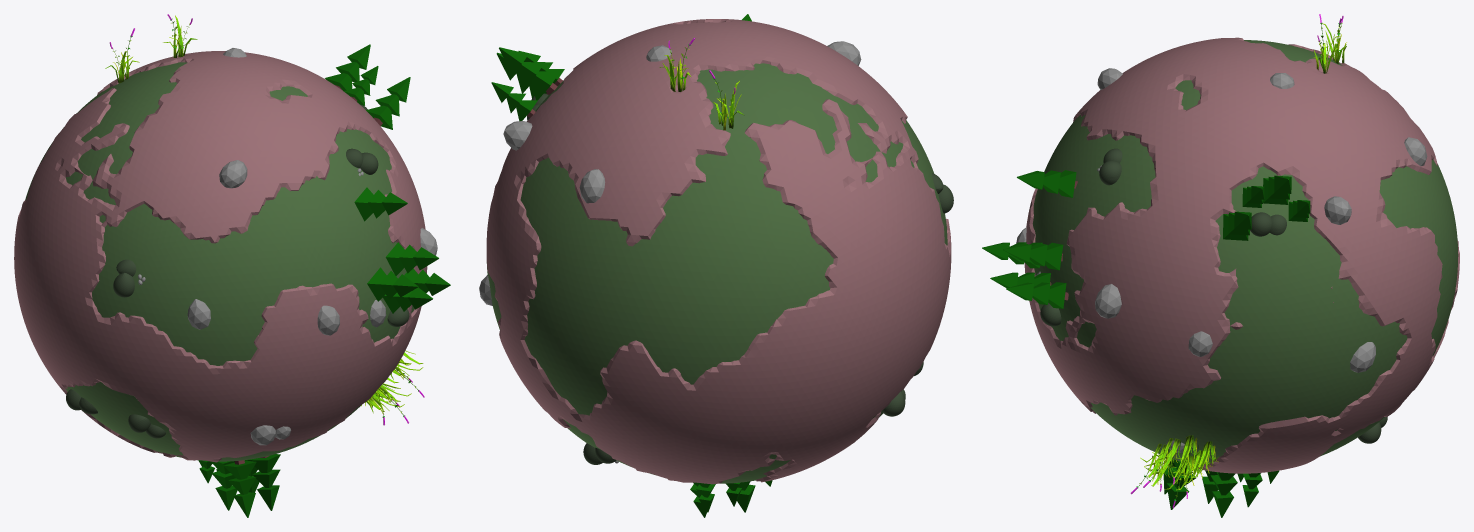
File: new-forest-planet (1).fbx
3 views of the same model, side by side, from view 1: azimuth 30°, elevation 25°; view 2: azimuth 150°, elevation 25°; view 3: azimuth 270°, elevation 25° (orthographic). The views are drawn at different scales.
Visible parts, largest first — view 1: Planet, Pine-Tree-003, Pine-Tree-005, Pine-Tree-005.009, Pine-Tree-005.008, Pine-Tree-005.002, Pine-Tree-005.007, Pine-Tree, Pine-Tree-005.003, Pine-Tree-005.010, Pine-Tree-005.011, Rock.001 (+3 smaller); view 2: Planet, Pine-Tree, Pine-Tree-004, Rock.009, Rock.010; view 3: Planet, Pine-Tree-005.009, Pine-Tree-005.008, Pine-Tree-005.011, Pine-Tree-003, Pine-Tree, Rock.004, Pine-Tree-005.001, Pine-Tree-005.010, Pine-Tree-005.002, Rock.010, Rock.002 (+1 smaller).
Boxes of the visible parts, left/top/right/bottom form: Planet: left=14, top=51, right=427, bottom=462; Pine-Tree-003: left=366, top=77, right=410, bottom=129; Pine-Tree-005: left=223, top=460, right=256, bottom=517; Pine-Tree-005.009: left=354, top=187, right=407, bottom=221; Pine-Tree-005.008: left=385, top=242, right=438, bottom=275; Pine-Tree-005.002: left=247, top=454, right=280, bottom=510; Pine-Tree-005.007: left=367, top=267, right=418, bottom=301; Pine-Tree: left=325, top=44, right=370, bottom=91; Pine-Tree-005.003: left=211, top=461, right=237, bottom=510; Pine-Tree-005.010: left=383, top=287, right=432, bottom=313; Pine-Tree-005.011: left=404, top=268, right=450, bottom=295; Rock.001: left=219, top=160, right=247, bottom=188; Planet: left=486, top=19, right=951, bottom=484; Pine-Tree: left=499, top=47, right=559, bottom=100; Pine-Tree-004: left=491, top=82, right=537, bottom=121; Rock.009: left=579, top=169, right=605, bottom=203; Rock.010: left=503, top=121, right=532, bottom=150; Planet: left=1024, top=37, right=1459, bottom=473; Pine-Tree-005.009: left=1017, top=170, right=1077, bottom=197; Pine-Tree-005.008: left=1003, top=242, right=1063, bottom=270; Pine-Tree-005.011: left=1006, top=282, right=1068, bottom=308; Pine-Tree-003: left=1223, top=211, right=1251, bottom=240; Pine-Tree: left=1263, top=175, right=1291, bottom=204; Rock.004: left=1095, top=284, right=1121, bottom=318; Pine-Tree-005.001: left=1210, top=472, right=1237, bottom=517; Pine-Tree-005.010: left=990, top=272, right=1051, bottom=288; Pine-Tree-005.002: left=1166, top=459, right=1195, bottom=509; Rock.010: left=1324, top=196, right=1351, bottom=224; Rock.002: left=1350, top=342, right=1375, bottom=372.
Size of the model in its own units: 315 by 373 by 333.
